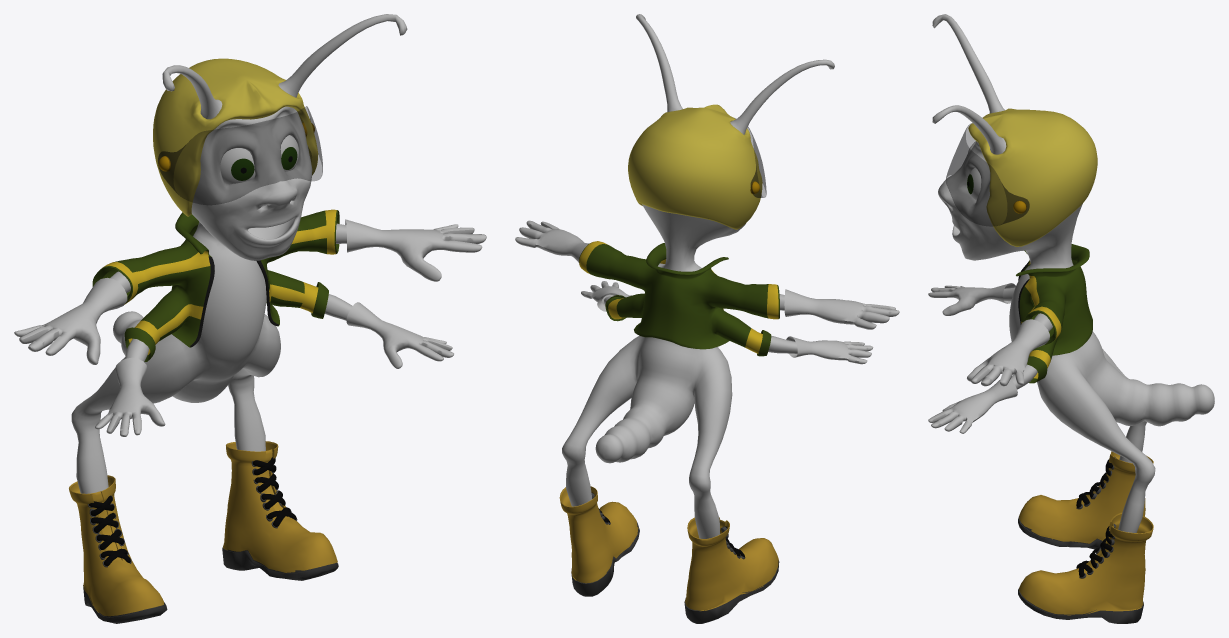
File: grasshopper.fbx
The picture shows the model from 3 angles, left to right: view 1: azimuth 30°, elevation 25°; view 2: azimuth 150°, elevation 25°; view 3: azimuth 270°, elevation 25°; orthographic projection. The views are drawn at different scales.
Visible parts, largest first — view 1: Grasshopper, Boots, Gloves, Jacket, glass, Helmet, right_eye; view 2: Grasshopper, Jacket, Helmet, Boots, Gloves, glass; view 3: Grasshopper, Boots, Helmet, Gloves, Jacket, glass.
Part boxes in pixels (box(x1,y1,x2,y2)): Grasshopper: box(71, 14, 407, 493); Boots: box(69, 441, 338, 623); Gloves: box(14, 219, 486, 436); Jacket: box(92, 209, 339, 361); glass: box(158, 106, 322, 205); Helmet: box(153, 58, 318, 216); right_eye: box(220, 148, 255, 184); Grasshopper: box(562, 14, 834, 538); Jacket: box(579, 241, 779, 356); Helmet: box(628, 104, 762, 229); Boots: box(559, 486, 779, 623); Gloves: box(515, 220, 899, 364); glass: box(735, 118, 766, 197); Grasshopper: box(932, 14, 1214, 532); Boots: box(1018, 451, 1153, 623); Helmet: box(968, 108, 1097, 246); Gloves: box(928, 283, 1049, 433); Jacket: box(1016, 244, 1092, 383); glass: box(946, 123, 1029, 226).
Bounding box in the file's own units: 17.04 × 22.13 × 10.85.
